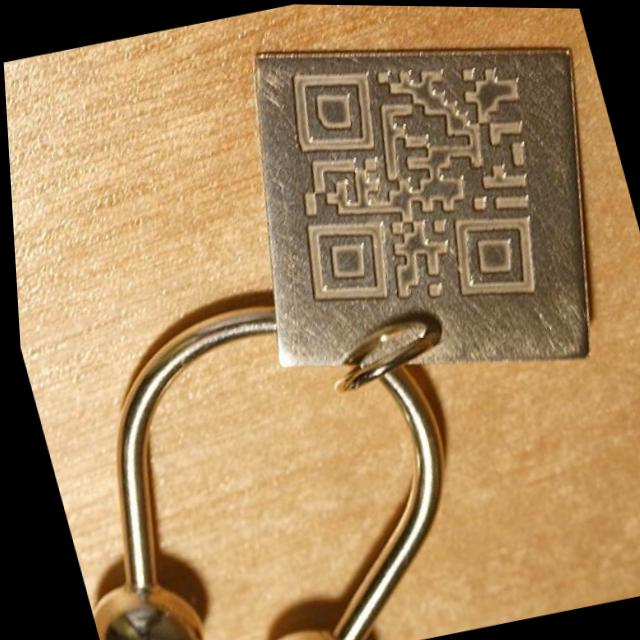qrcode: (251, 27, 575, 337)
